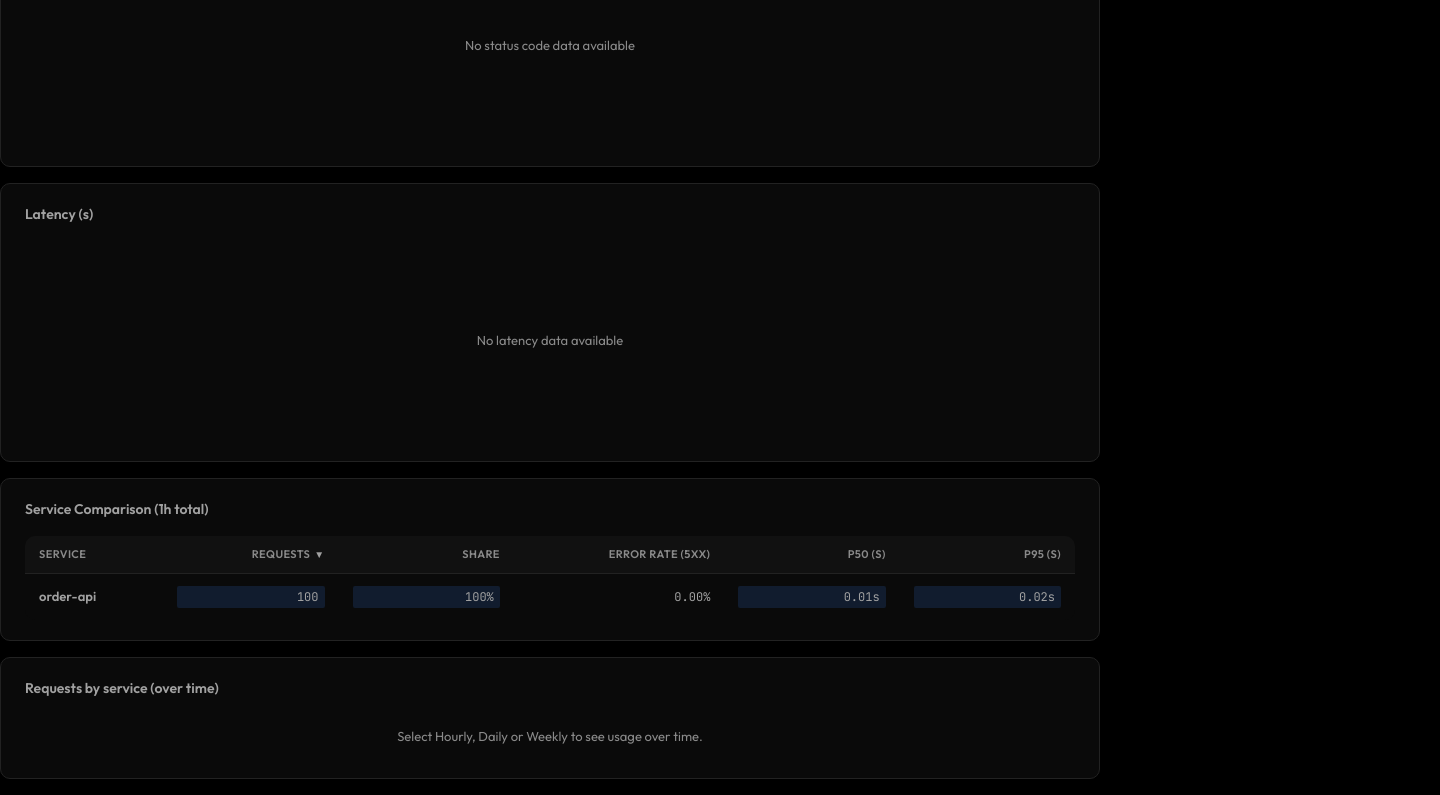
Test case: ExternalMonitoring › opens the endpoint drill-down when a service row is clicked
The width and height of the screenshot is (1440, 795).
(page scrolled)
Step 1. Click the button with aria-label "Open endpoint details for order-api" → (68, 596), box [25,573,1075,620]
(page scrolled)
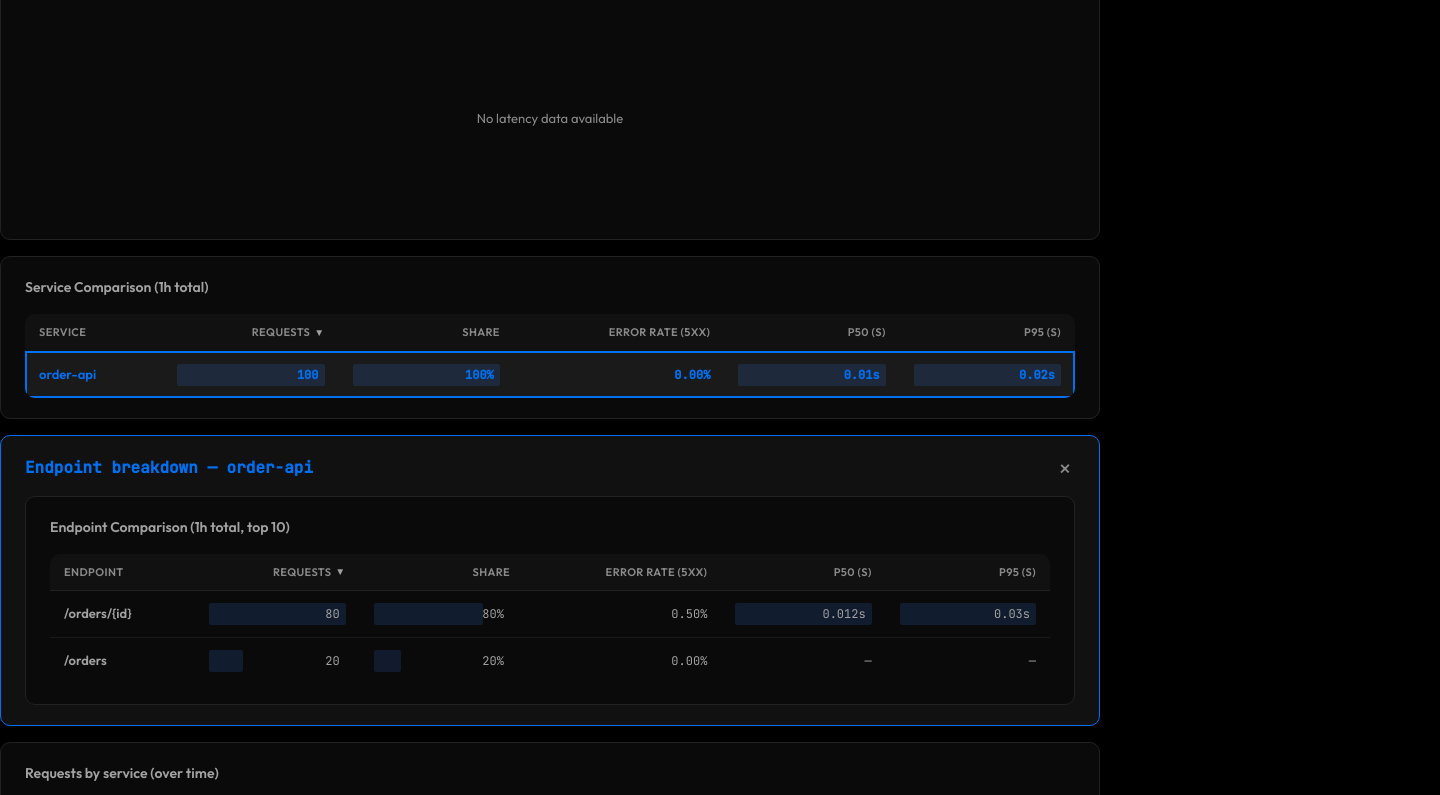
expect the text "Endpoint breakdown — order-api" is shown: met, box [25,456,313,480]
expect the text "/orders/{id}" is shown: met, box [50,590,195,638]
expect the text "/orders" is shown: met, box [50,638,195,684]
# Clicking again closes the panel.
Step 2. Click the button with aria-label "Open endpoint details for order-api" → (68, 374), box [25,351,1075,398]
(page scrolled)
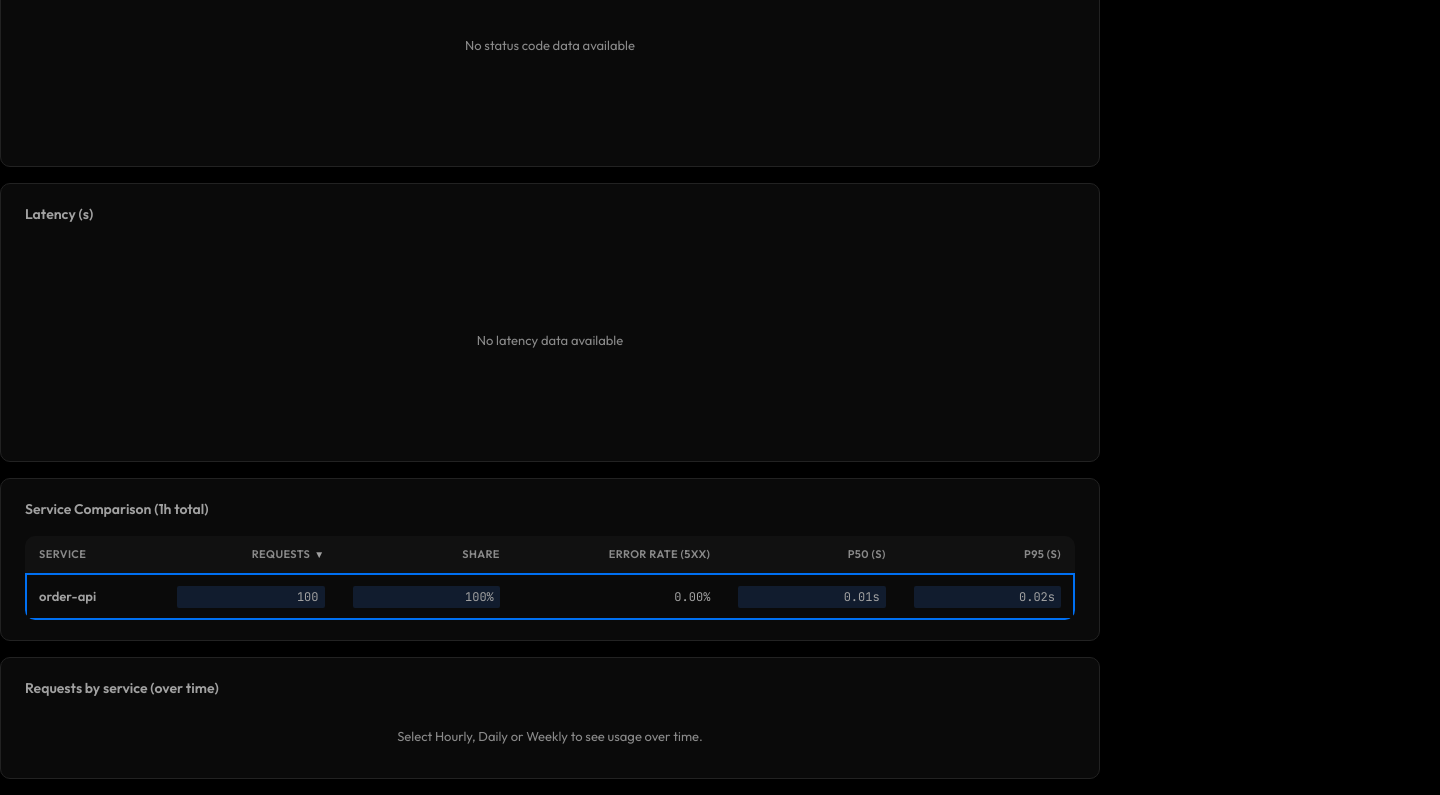
expect the text "Endpoint breakdown — order-api" is gone: met
